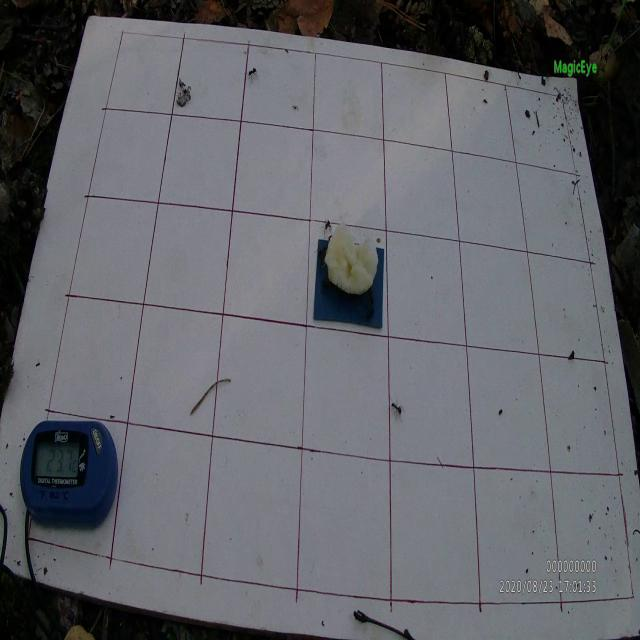Ant: (388, 396, 405, 424), (321, 218, 333, 239), (248, 68, 260, 84)
